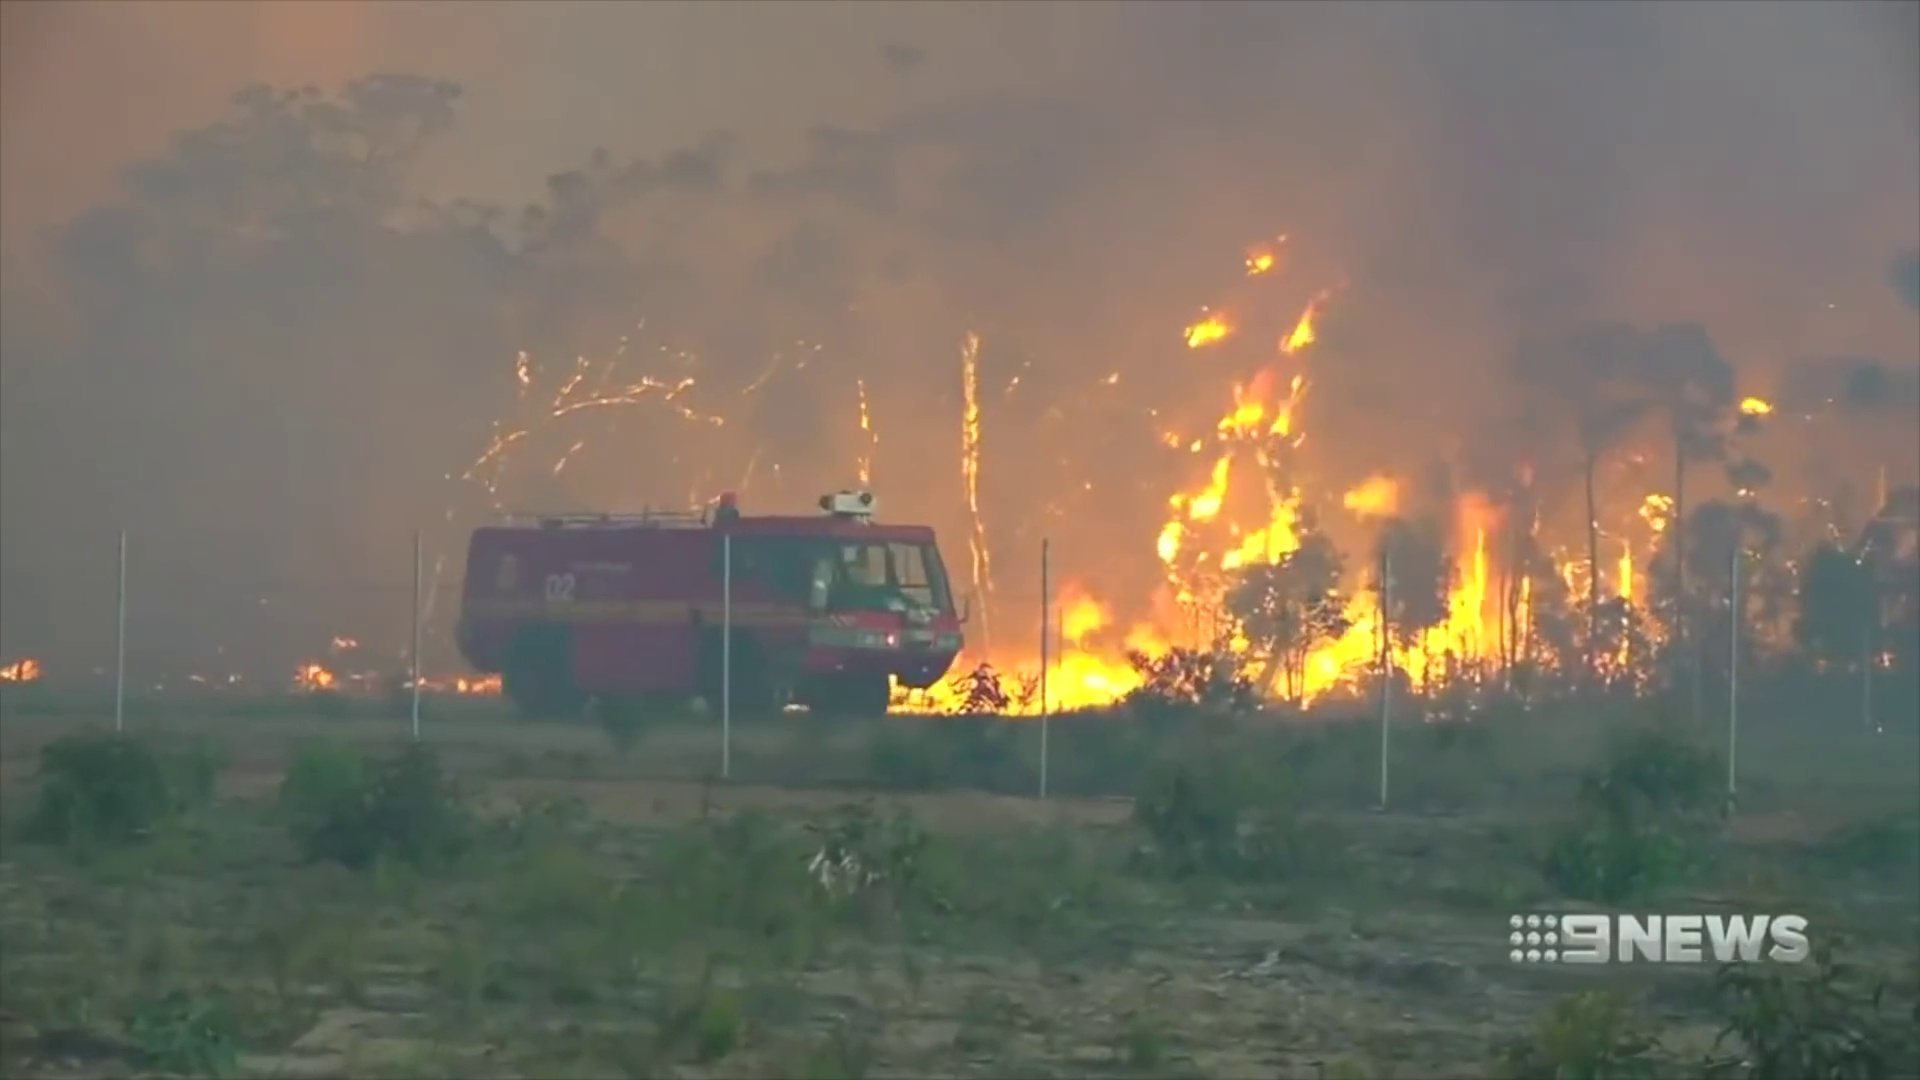fire: (1282, 543, 1532, 699), (956, 655, 1117, 710), (1230, 365, 1305, 440), (961, 334, 982, 520), (1255, 490, 1298, 560), (1058, 584, 1111, 640), (1190, 486, 1226, 520), (1193, 313, 1227, 343), (1645, 493, 1674, 527), (1287, 314, 1318, 345), (1744, 396, 1774, 420), (304, 667, 337, 688), (1251, 244, 1274, 269)
